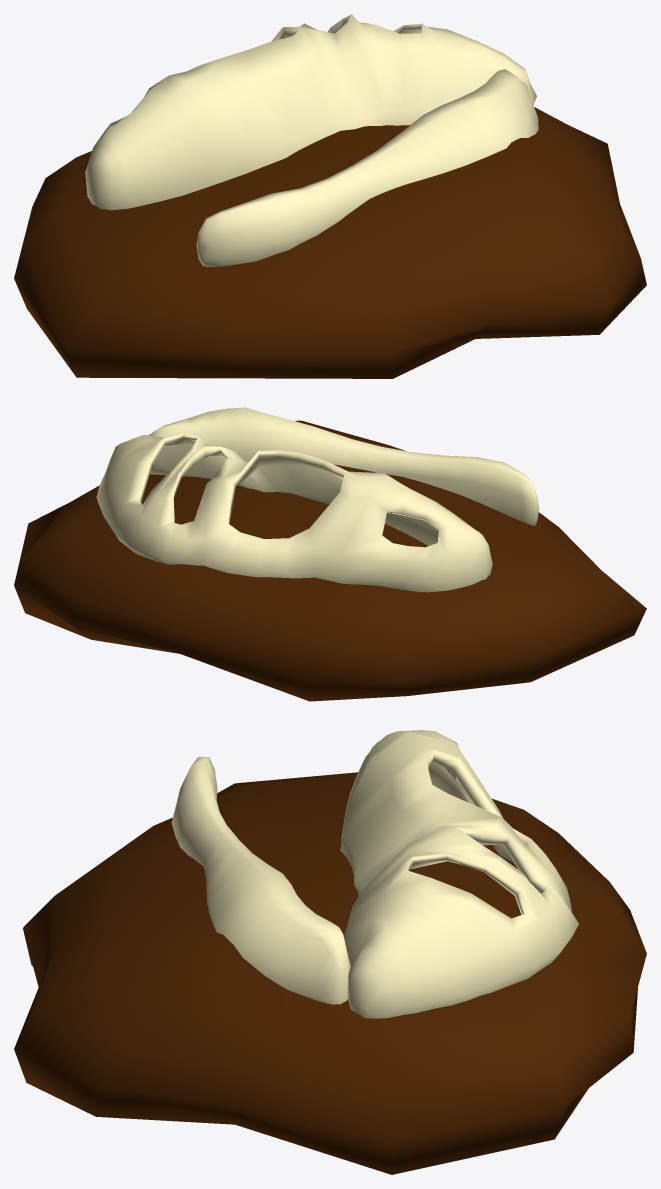
File: HP_Dino Skull.fbx
3 views of the same model, one above another, from view 1: azimuth 30°, elevation 25°; view 2: azimuth 150°, elevation 25°; view 3: azimuth 270°, elevation 25° (orthographic). The views are drawn at different scales.
Parts seen in each view (by area): view 1: Rock, Skull, Jaw; view 2: Rock, Skull, Jaw; view 3: Rock, Skull, Jaw.
Part boxes in pixels (x1=…): Rock: x1=14, y1=107, x2=646, y2=378; Skull: x1=85, y1=14, x2=536, y2=210; Jaw: x1=196, y1=69, x2=538, y2=266; Rock: x1=14, y1=420, x2=646, y2=701; Skull: x1=96, y1=433, x2=492, y2=592; Jaw: x1=148, y1=407, x2=539, y2=525; Rock: x1=14, y1=772, x2=646, y2=1174; Skull: x1=340, y1=730, x2=578, y2=1018; Jaw: x1=171, y1=757, x2=350, y2=1004.
Bounding box in the file's own units: 286 × 100 × 223.
